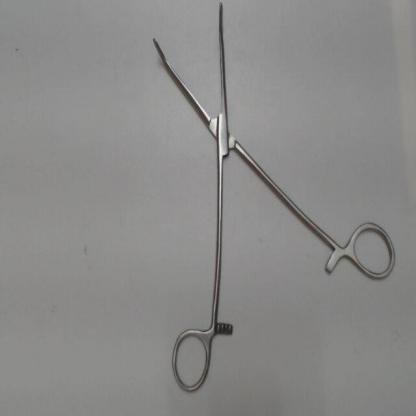Lahey Forceps: (143, 0, 400, 401)
